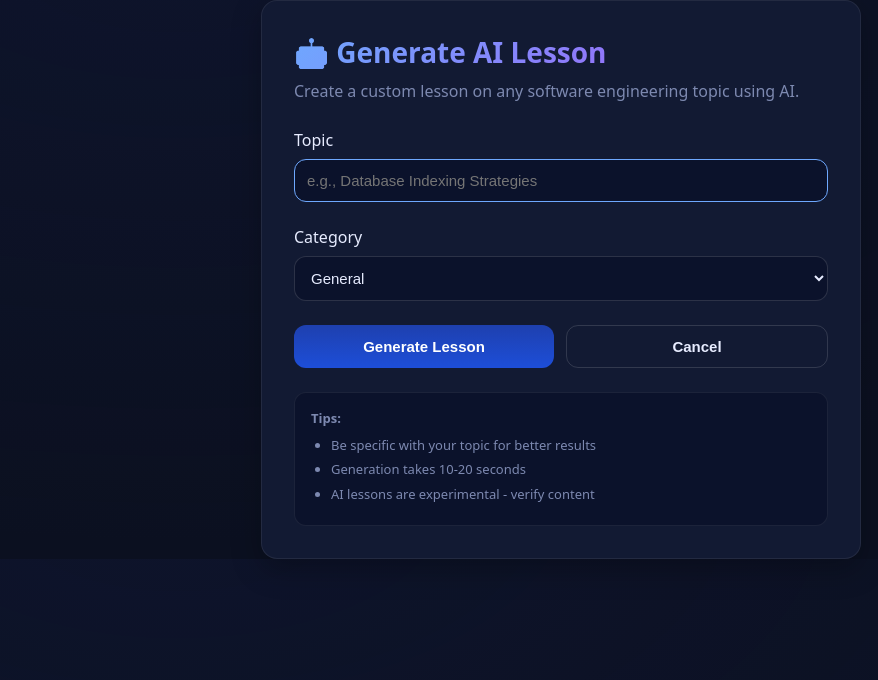
Test case: AILessonGenerator Component › shows error when generating with empty topic
Step 1. Click the button "Generate Lesson" → (424,346), box [294,325,554,368]
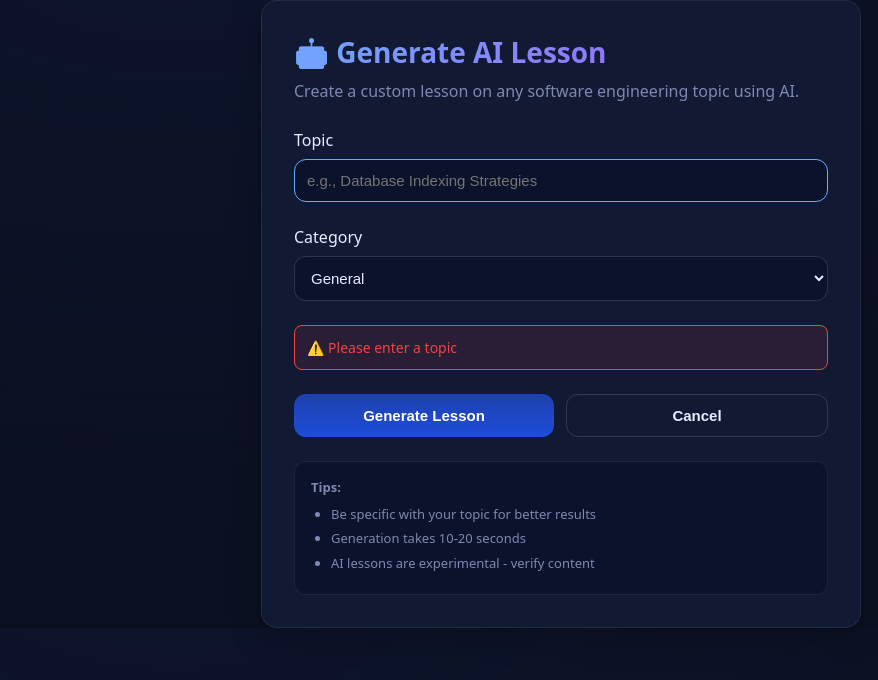
Now the text "⚠️ Please enter a topic" is shown, box [294,325,828,370]
